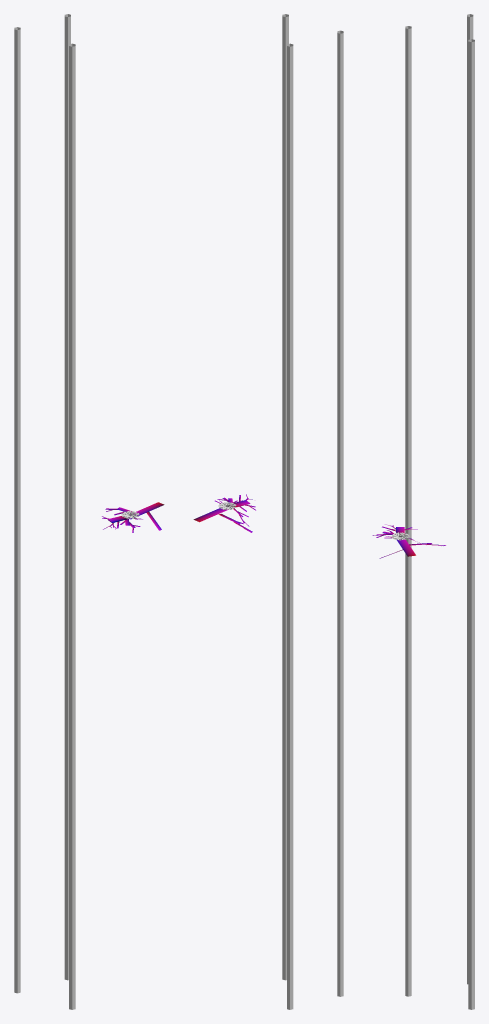
The model's file is setForeground_export.fbx.
The picture shows the model from 3 angles, left to right: view 1: azimuth 30°, elevation 25°; view 2: azimuth 210°, elevation 25°; view 3: azimuth 270°, elevation 25°; orthographic projection.
Parts seen in each view (by area): view 1: column1, column, column2, branchPlank54; view 2: column1, column2, column, branchPlank54; view 3: column2, column, column1, branchPlank54.
Part boxes in pixels (box(x1,y1,x2,y2)): column1: box(14, 27, 20, 993); column: box(69, 43, 75, 1009); column2: box(64, 14, 70, 980); branchPlank54: box(102, 502, 164, 532); column1: box(337, 30, 343, 996); column2: box(287, 43, 293, 1009); column: box(282, 14, 288, 980); branchPlank54: box(193, 494, 255, 532); column2: box(468, 39, 474, 1009); column: box(405, 26, 411, 996); column1: box(467, 14, 473, 984); branchPlank54: box(372, 524, 445, 558).
Size of the model in its own units: 19.47 by 150 by 14.44.
